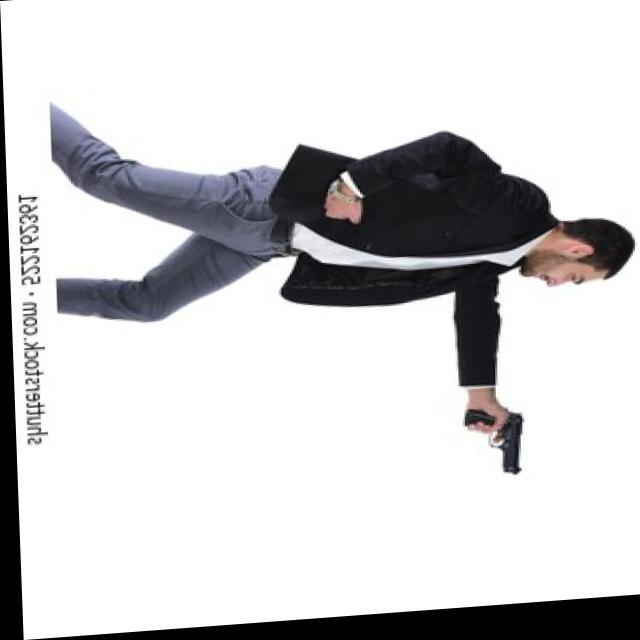handgun: (459, 408, 521, 482)
